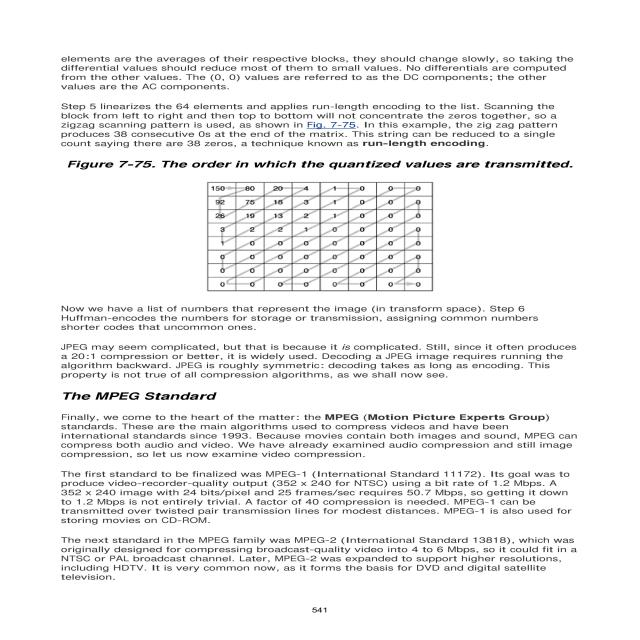diagram: (46, 155, 592, 297)
